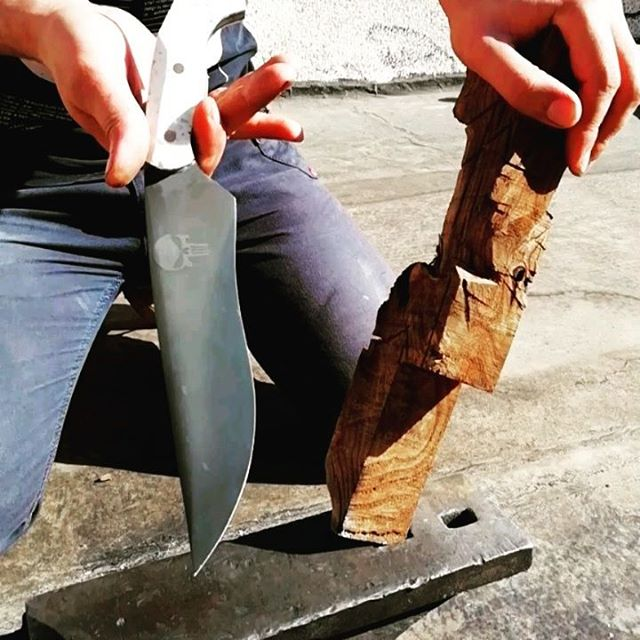knife: (142, 1, 257, 578)
